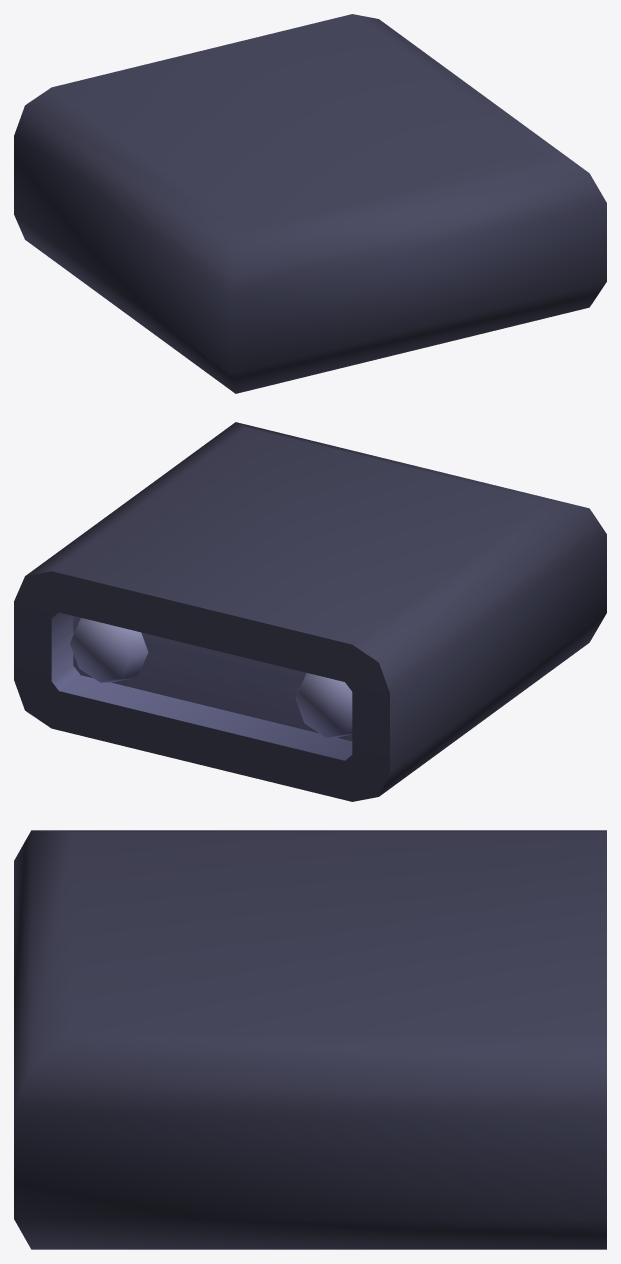
File: kenney-conveyor-conveyor-junction-t.glb
The picture shows the model from 3 angles, top to bottom: view 1: azimuth 30°, elevation 25°; view 2: azimuth 150°, elevation 25°; view 3: azimuth 270°, elevation 25°; orthographic projection. The views are drawn at different scales.
Parts seen in each view (by area): view 1: conveyor-junction-t; view 2: conveyor-junction-t; view 3: conveyor-junction-t.
Part boxes in pixels (bbox=[...]): conveyor-junction-t: bbox=[14, 14, 606, 393]; conveyor-junction-t: bbox=[14, 422, 606, 801]; conveyor-junction-t: bbox=[14, 830, 606, 1249].
Size of the model in its own units: 1 by 0.3999 by 1.
1 material, 1 textured.
